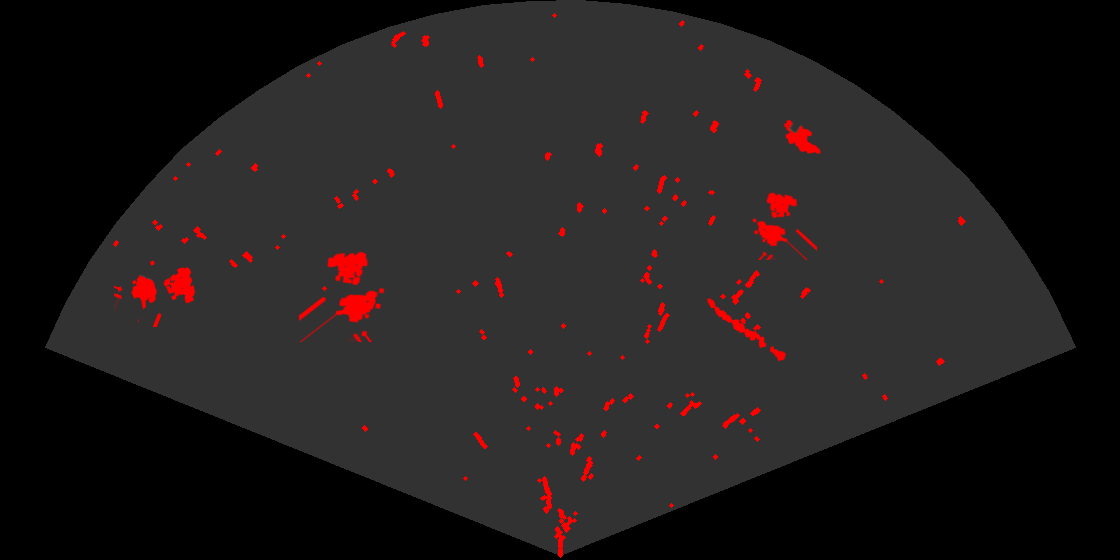AUV: (782, 118, 822, 156)
cage: (299, 250, 386, 342), (114, 259, 197, 327), (751, 191, 817, 260)
chain: (705, 297, 788, 363)
